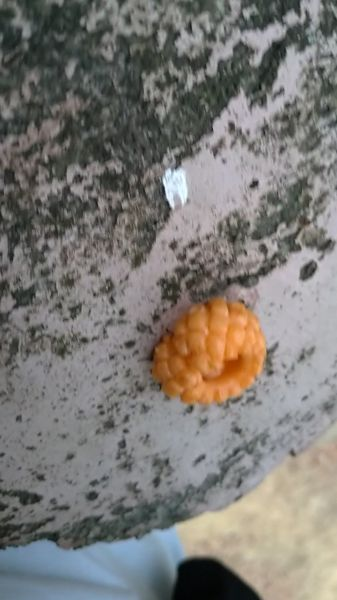eggs: (147, 291, 273, 405)
